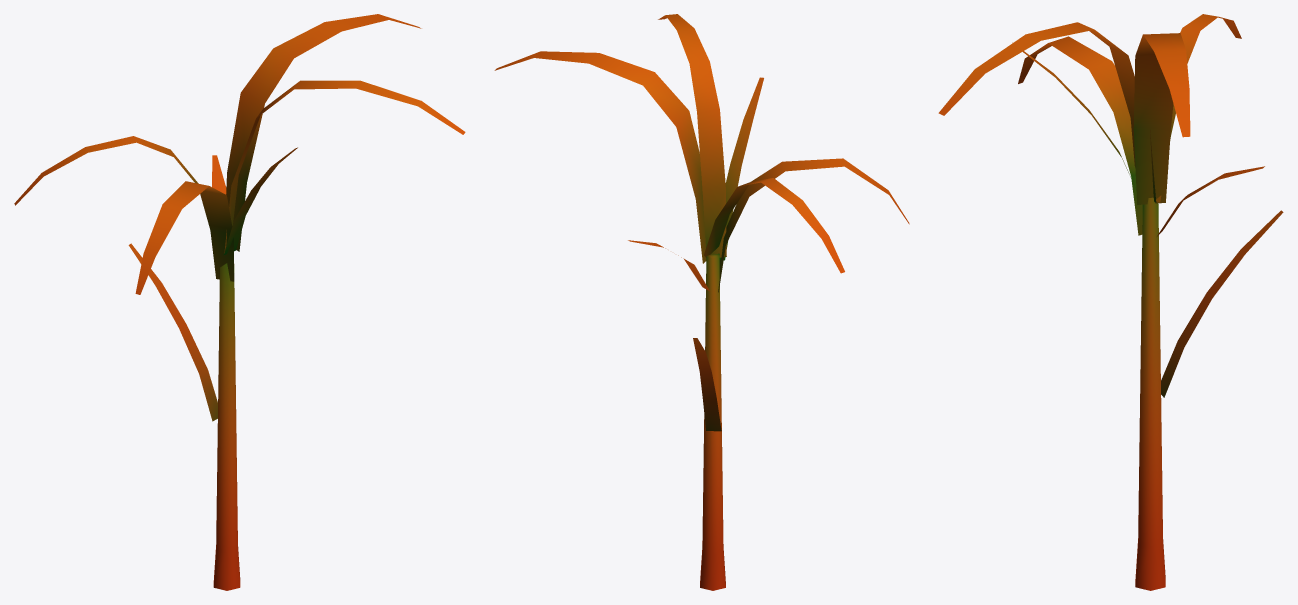
The model's file is SM_SugarCanePlants_9.fbx.
3 renders of one model, left to right at view 1: azimuth 30°, elevation 25°; view 2: azimuth 150°, elevation 25°; view 3: azimuth 270°, elevation 25°, orthographic. The views are drawn at different scales.
Parts seen in each view (by area): view 1: SM_SugarCanePlants_9; view 2: SM_SugarCanePlants_9; view 3: SM_SugarCanePlants_9.
Boxes of the visible parts, bbox=[...] form: SM_SugarCanePlants_9: bbox=[14, 14, 465, 590]; SM_SugarCanePlants_9: bbox=[494, 14, 909, 590]; SM_SugarCanePlants_9: bbox=[938, 14, 1283, 590].
Size of the model in its own units: 0.9622 by 1.25 by 0.6571.
